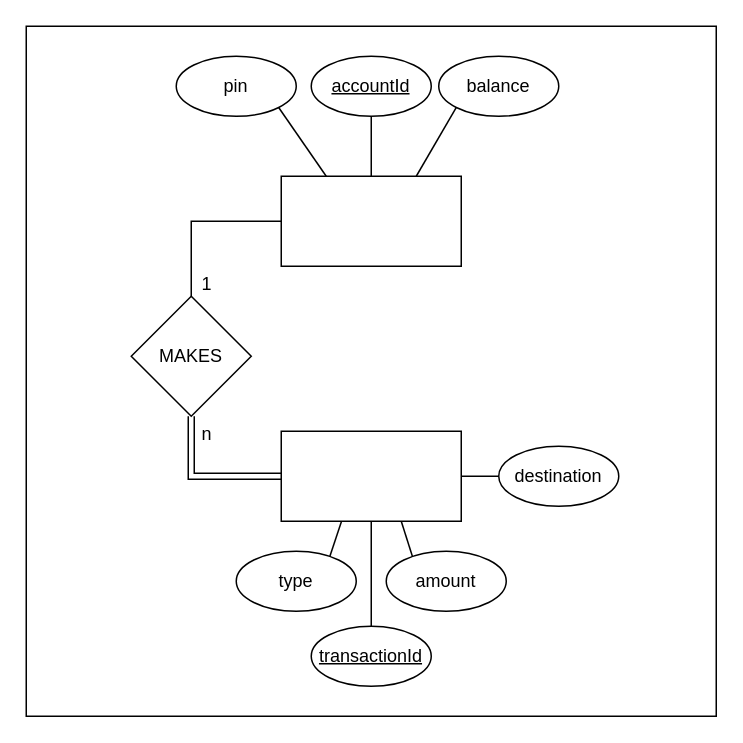
Some shapes in this 743 by 743 pixel diagram are drawn without their labels. Each missing label, with the centre of its shape:
Transaction: [370,475]
User: [370,220]
